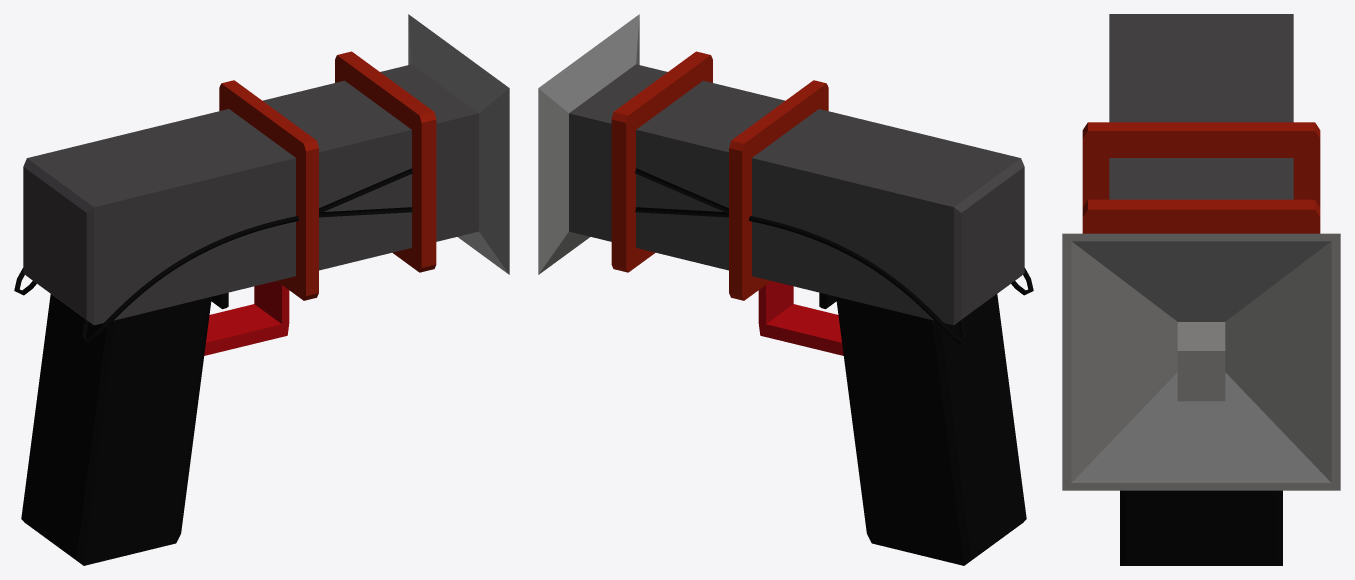
File: pew.glb
3 renders of one model, left to right at view 1: azimuth 30°, elevation 25°; view 2: azimuth 150°, elevation 25°; view 3: azimuth 270°, elevation 25°, orthographic. The views are drawn at different scales.
Visible parts, largest first — view 1: Cube, Cube.003, Cube.005, Cube.004, Cube.001, Cylinder.001; view 2: Cube, Cube.003, Cube.005, Cube.004, Cube.001, Cylinder.001; view 3: Cube.004, Cube, Cube.005, Cube.003.
Part boxes in pixels (x1,y1,x2,y2): Cube: (23,64,478,325); Cube.003: (21,294,211,565); Cube.005: (219,51,436,300); Cube.004: (408,14,509,274); Cube.001: (204,281,289,355); Cylinder.001: (14,168,413,344); Cube: (569,64,1024,325); Cube.003: (836,294,1026,565); Cube.005: (611,51,828,300); Cube.004: (538,14,639,274); Cube.001: (758,281,843,355); Cylinder.001: (634,168,1033,344); Cube.004: (1062,233,1340,490); Cube: (1109,14,1293,199); Cube.005: (1082,122,1320,233); Cube.003: (1120,490,1282,565).
Size of the model in its own units: 4.36 by 3.81 by 1.77.
